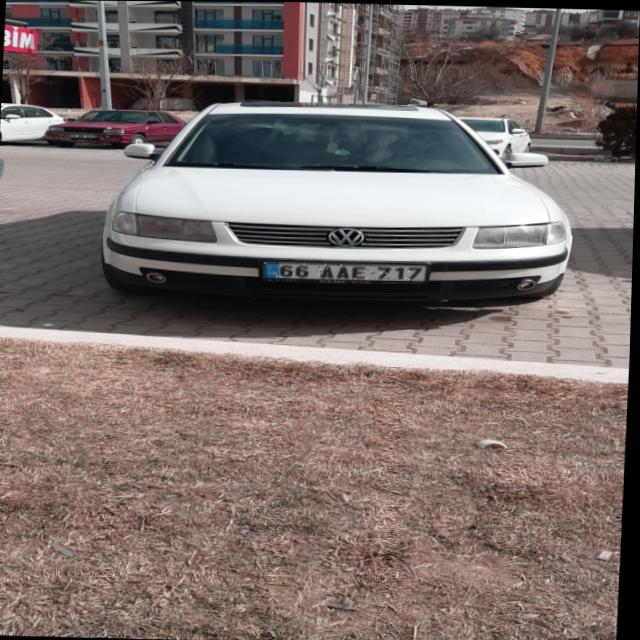plate: (265, 261, 429, 281)
